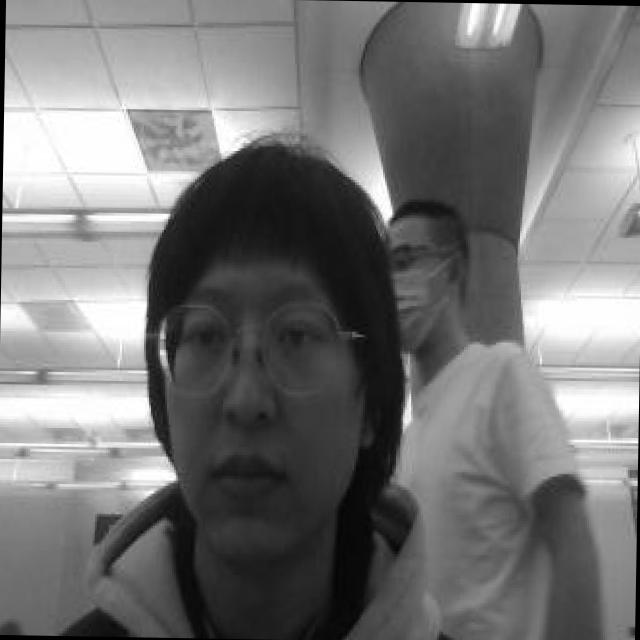Focused: (154, 242, 352, 540), (382, 226, 434, 358)
